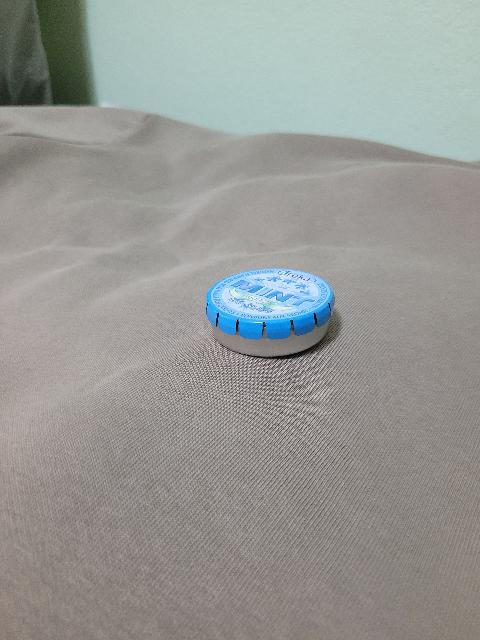Metal: (206, 265, 338, 360)
